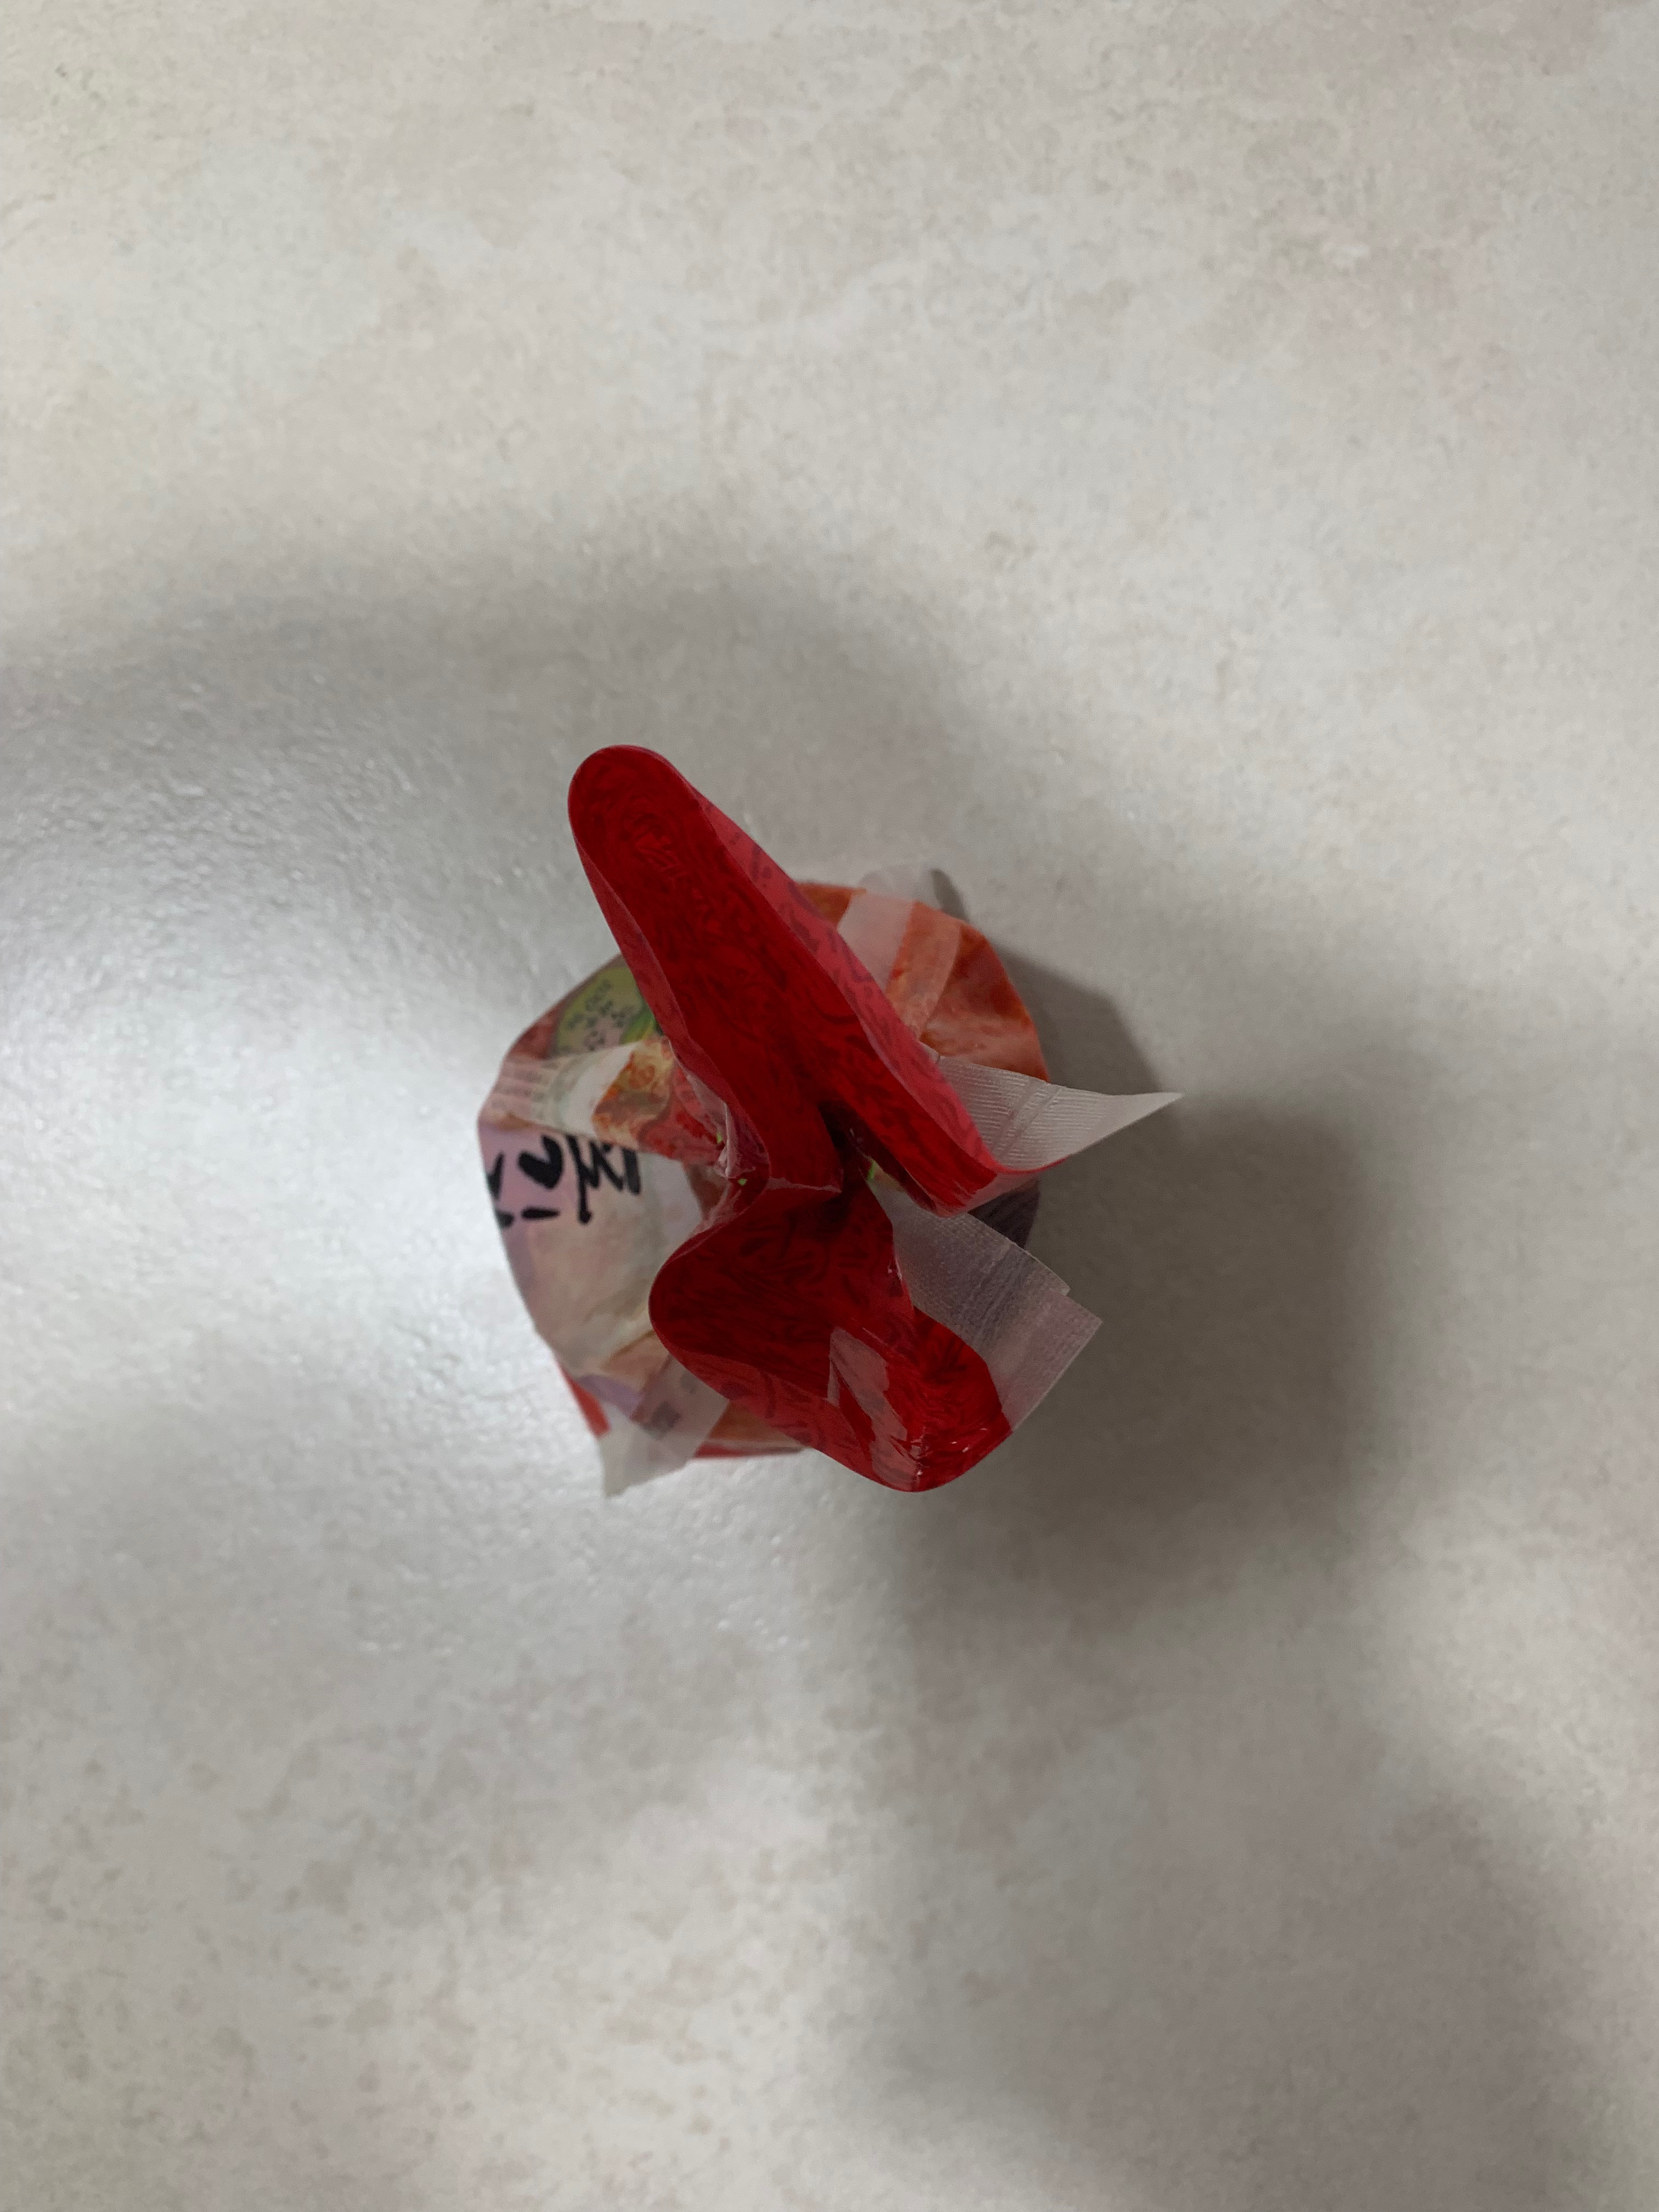kimchi: (479, 744, 1060, 1503)
